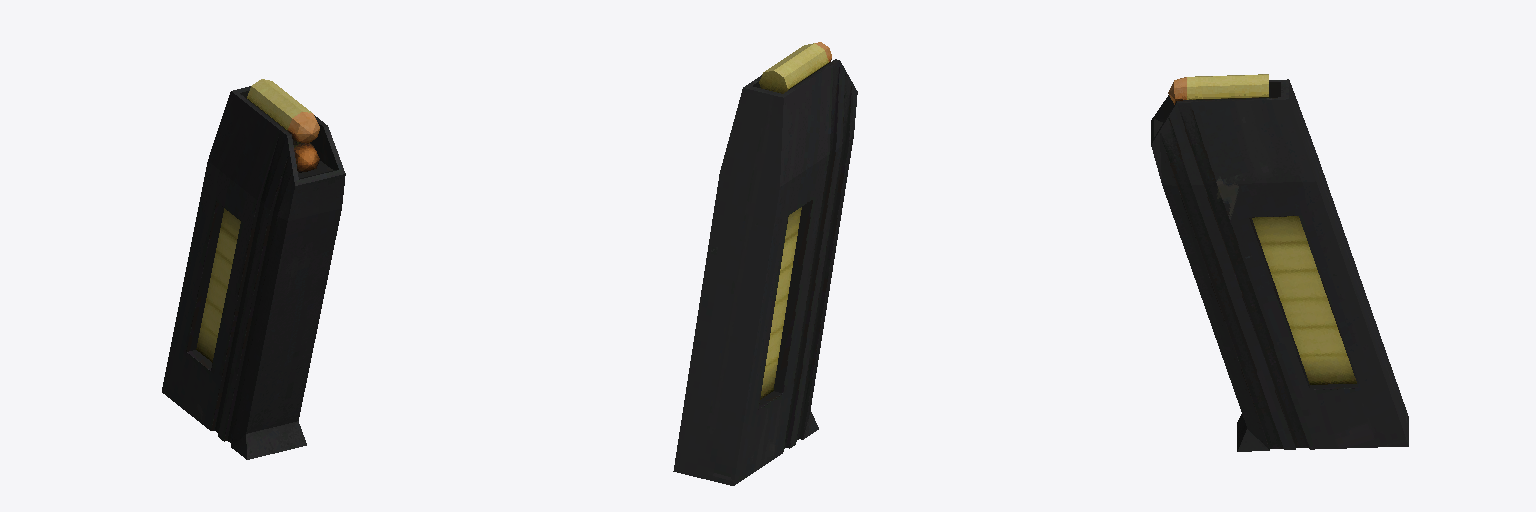
The picture shows the model from 3 angles: view 1: azimuth 30°, elevation 25°; view 2: azimuth 150°, elevation 25°; view 3: azimuth 270°, elevation 25°; orthographic projection.
Parts seen in each view (by area): view 1: ammo; view 2: ammo; view 3: ammo.
Part boxes in pixels (x1,y1,x2,y2): ammo: (162, 79, 345, 459); ammo: (673, 42, 857, 485); ammo: (1151, 74, 1408, 451).
Bounding box in the file's own units: 0.2355 × 1.35 × 0.8731.
1 materials, 1 textured.